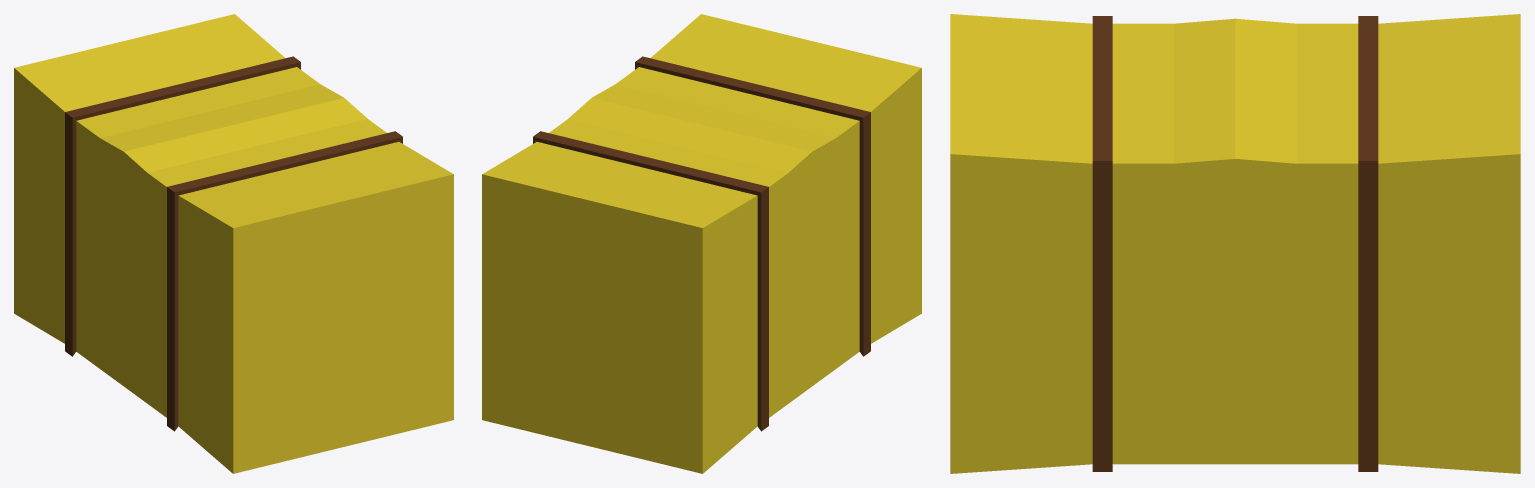
The model's file is decoration.fbx.
3 views of the same model, side by side, from view 1: azimuth 30°, elevation 25°; view 2: azimuth 150°, elevation 25°; view 3: azimuth 270°, elevation 25° (orthographic). The views are drawn at different scales.
Visible parts, largest first — view 1: palla; view 2: palla; view 3: palla.
Boxes of the visible parts, x1,y1,x2,y2 form: palla: [14, 14, 453, 473]; palla: [482, 14, 921, 473]; palla: [950, 14, 1520, 473].
Size of the model in its own units: 97.93 by 101 by 163.
